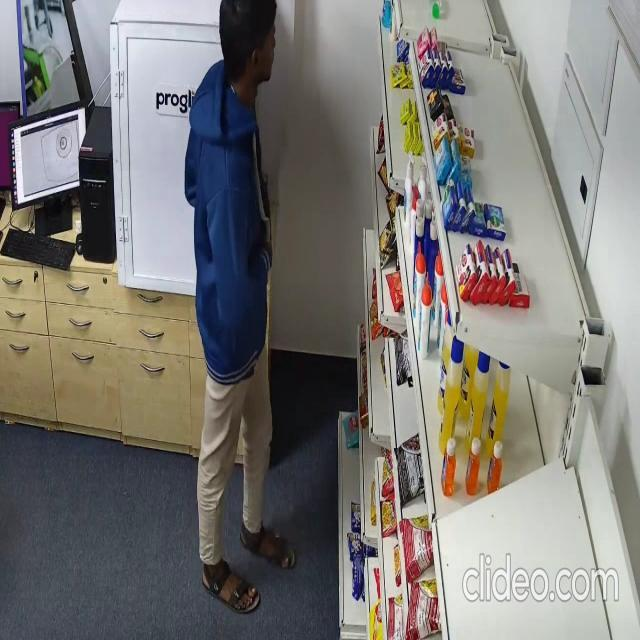Shoplifting: (180, 0, 294, 613)
